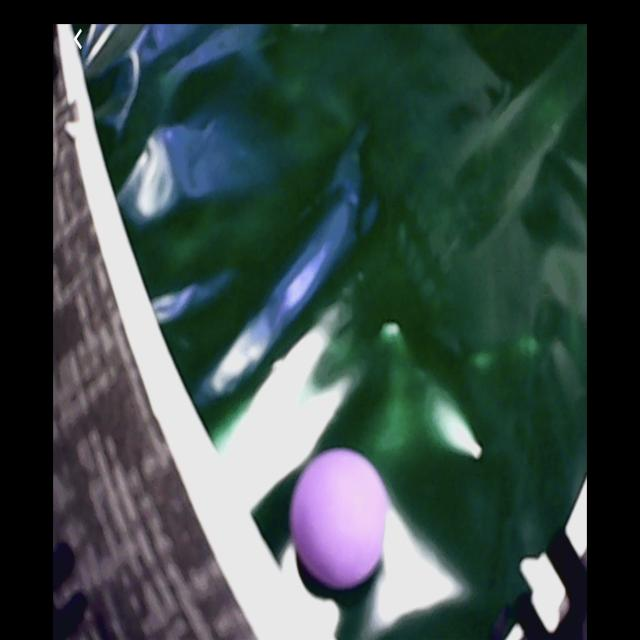ball: (292, 450, 388, 593)
